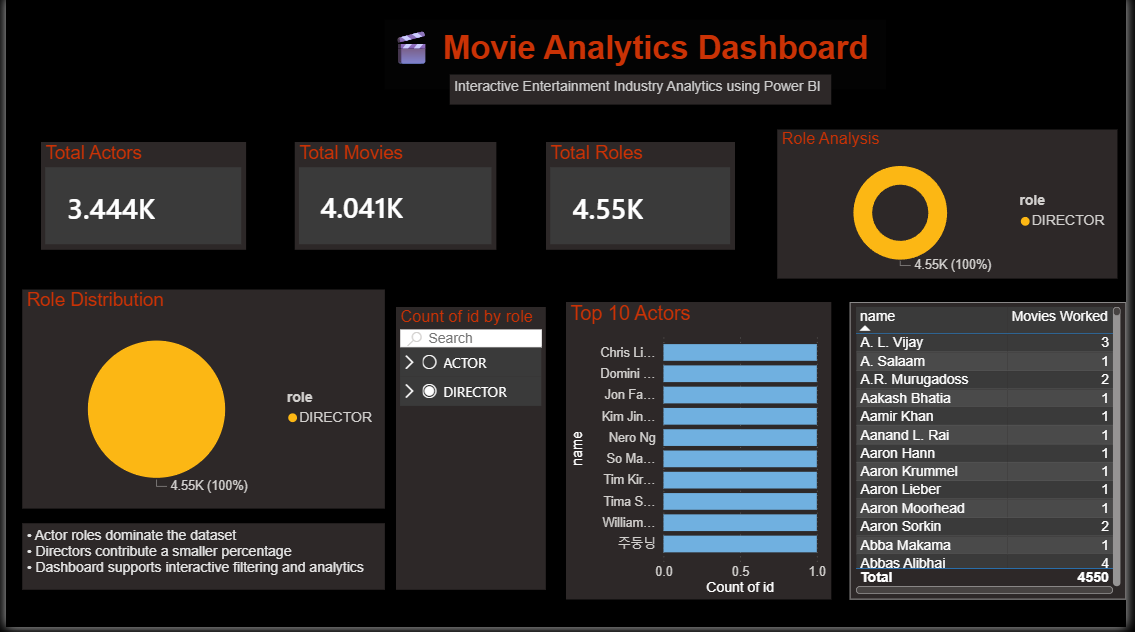

The page's visual inventory and layout, read from the dashboard file:
{"tool":"powerbi","page":{"name":"Page 1","canvas":[1280,720],"ordinal":0},"visuals":[{"type":"cardVisual","title":"Total Actors","fields":{"Data":["Count(credits.name)"]},"box":[60,145.7,287.1,122.9],"z":0},{"type":"cardVisual","title":"Total Movies","fields":{"Data":["Count(credits.id)"]},"box":[432.9,145.7,288.6,122.9],"z":1000},{"type":"cardVisual","title":"Total Roles","fields":{"Data":["CountNonNull(credits.role)"]},"box":[802.9,145.7,274.3,122.9],"z":2000},{"type":"pieChart","title":"Role Distribution","fields":{"Category":["credits.role"],"Y":["CountNonNull(credits.role)"]},"box":[18.6,321.4,400,250],"z":3000},{"type":"listSlicer","fields":{"Values":["credits.role","credits.name"]},"box":[445.7,338.6,194.3,322.9],"z":4000},{"type":"clusteredBarChart","title":"Top 10 Actors","fields":{"Y":["CountNonNull(credits.id)"],"Category":["credits.name"]},"box":[662.9,321.4,280,340],"z":5000},{"type":"textbox","box":[432.5,26.2,572.5,80],"z":6000},{"type":"donutChart","title":"Role Analysis","fields":{"Category":["credits.role"],"Y":["CountNonNull(credits.role)"]},"box":[1087,104.5,193,150],"z":7000},{"type":"tableEx","title":"Movies Worked","fields":{"Values":["credits.name","credits.id"]},"box":[964.3,321.4,315.7,340],"z":8000},{"type":"textbox","box":[18.6,601.4,400,75.7],"z":8001},{"type":"textbox","box":[507.1,88.6,435.7,34.3],"z":8002}]}

Visuals, with their boxes in screenshot pixels (x1, y1, x2, y2), scaled from the page's 1280x720 canvas onto the 1135x632 screenshot:
"Total Actors" cardVisual: left=53, top=128, right=308, bottom=236
"Total Movies" cardVisual: left=384, top=128, right=640, bottom=236
"Total Roles" cardVisual: left=712, top=128, right=955, bottom=236
"Role Distribution" pieChart: left=16, top=282, right=371, bottom=502
listSlicer - credits.role x credits.name: left=395, top=297, right=568, bottom=581
"Top 10 Actors" clusteredBarChart: left=588, top=282, right=836, bottom=581
textbox: left=384, top=23, right=891, bottom=93
"Role Analysis" donutChart: left=964, top=92, right=1134, bottom=223
"Movies Worked" tableEx: left=855, top=282, right=1134, bottom=581
textbox: left=16, top=528, right=371, bottom=594
textbox: left=450, top=78, right=836, bottom=108
